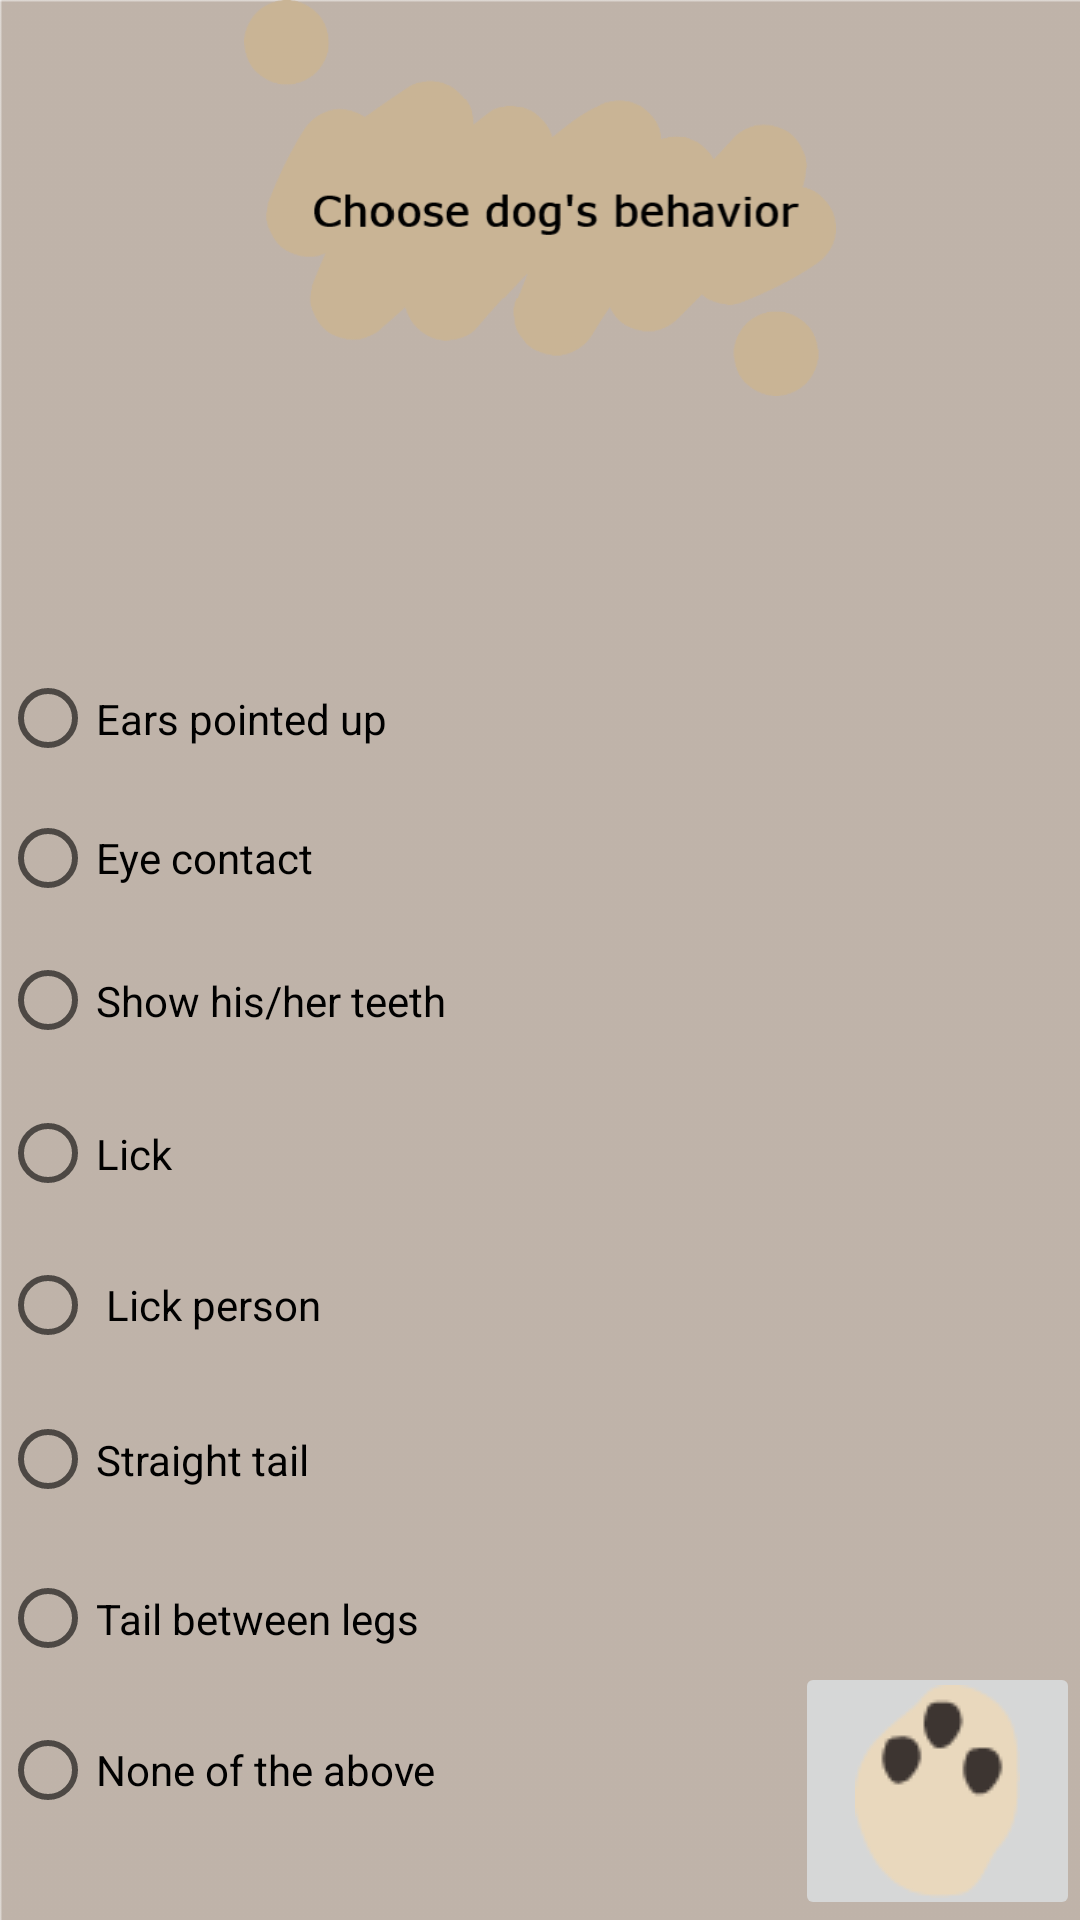

Named icons in this screenshot (1080 × 1920) and their centers, point (x, y):
pawbutton: point (937, 1791)
